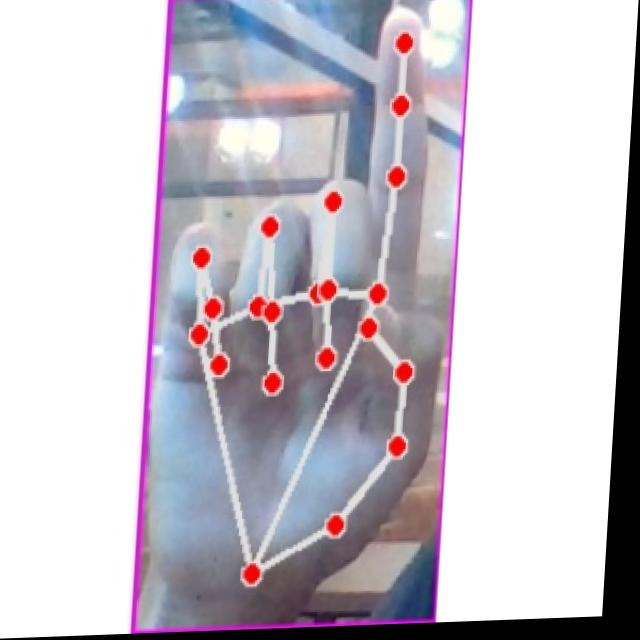D: (156, 2, 462, 609)
